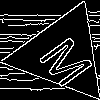M: (36, 29, 100, 90)
